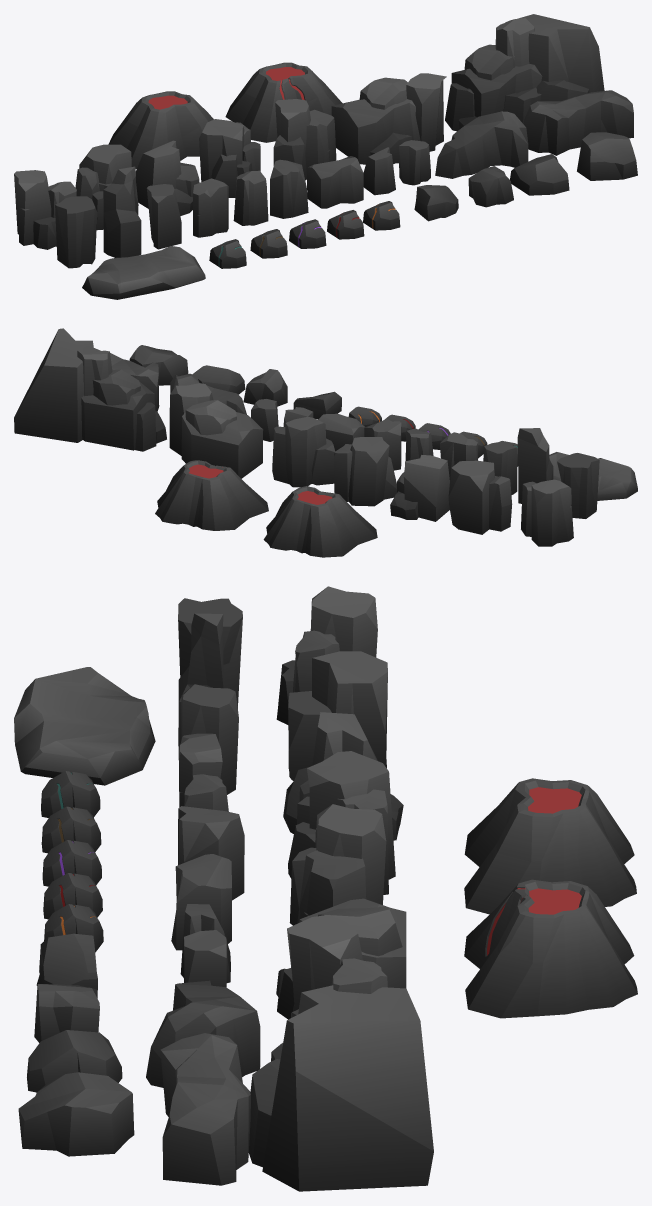
The model's file is Lowpoly_Cliff_Rocks.fbx.
The picture shows the model from 3 angles, top to bottom: view 1: azimuth 30°, elevation 25°; view 2: azimuth 150°, elevation 25°; view 3: azimuth 270°, elevation 25°; orthographic projection. The views are drawn at different scales.
Parts seen in each view (by area): view 1: Cliff_07, Cliff_06, Cliff_Rock_11, Plane.004, Plane.003_Plane.005, Cliff_Rock_10, Rock_Floor_01, Cliff_05, Cliff_04, Cliff_01, Cliff_Rock_02, Cliff_Rock_01 (+18 smaller); view 2: Cliff_07, Cliff_06, Plane.003_Plane.005, Plane.004, Cliff_02, Cliff_05, Cliff_04, Cliff_03, Cliff_01, Cliff_Rock_01, Cliff_Rock_02, Rock_Floor_01 (+14 smaller); view 3: Cliff_07, Plane.004, Plane.003_Plane.005, Rock_Floor_01, Cliff_Rock_11, Cliff_06, Cliff_05, Rock_04, Cliff_02, Cliff_04, Cliff_Rock_10, Cliff_01 (+18 smaller).
Part boxes in pixels (x1=…): Cliff_07: x1=445, y1=14, x2=604, y2=131; Cliff_06: x1=331, y1=73, x2=446, y2=164; Cliff_Rock_11: x1=524, y1=90, x2=633, y2=155; Plane.004: x1=225, y1=62, x2=342, y2=142; Plane.003_Plane.005: x1=108, y1=91, x2=213, y2=168; Cliff_Rock_10: x1=435, y1=111, x2=528, y2=178; Rock_Floor_01: x1=82, y1=246, x2=205, y2=299; Cliff_05: x1=273, y1=99, x2=336, y2=180; Cliff_04: x1=199, y1=119, x2=260, y2=197; Cliff_01: x1=14, y1=170, x2=76, y2=249; Cliff_Rock_02: x1=103, y1=166, x2=141, y2=257; Cliff_Rock_01: x1=55, y1=196, x2=97, y2=268; Cliff_07: x1=14, y1=328, x2=166, y2=451; Cliff_06: x1=169, y1=383, x2=263, y2=478; Plane.003_Plane.005: x1=263, y1=486, x2=377, y2=557; Plane.004: x1=155, y1=460, x2=268, y2=530; Cliff_02: x1=448, y1=460, x2=512, y2=534; Cliff_05: x1=272, y1=416, x2=335, y2=487; Cliff_04: x1=334, y1=437, x2=396, y2=506; Cliff_03: x1=390, y1=455, x2=449, y2=521; Cliff_01: x1=521, y1=479, x2=573, y2=546; Cliff_Rock_01: x1=557, y1=453, x2=599, y2=518; Cliff_Rock_02: x1=517, y1=428, x2=553, y2=503; Rock_Floor_01: x1=549, y1=452, x2=637, y2=500; Cliff_07: x1=248, y1=958, x2=433, y2=1191; Plane.004: x1=464, y1=879, x2=637, y2=1018; Plane.003_Plane.005: x1=464, y1=778, x2=636, y2=914; Rock_Floor_01: x1=14, y1=667, x2=155, y2=785; Cliff_Rock_11: x1=160, y1=1033, x2=250, y2=1185; Cliff_06: x1=276, y1=898, x2=406, y2=1019; Cliff_05: x1=289, y1=804, x2=386, y2=925; Rock_04: x1=18, y1=1072, x2=134, y2=1156; Cliff_02: x1=288, y1=651, x2=387, y2=780; Cliff_04: x1=288, y1=751, x2=395, y2=894; Cliff_Rock_10: x1=146, y1=980, x2=260, y2=1087; Cliff_01: x1=276, y1=586, x2=377, y2=724.
Bounding box in the file's own units: 9879 × 1481 × 5213.
